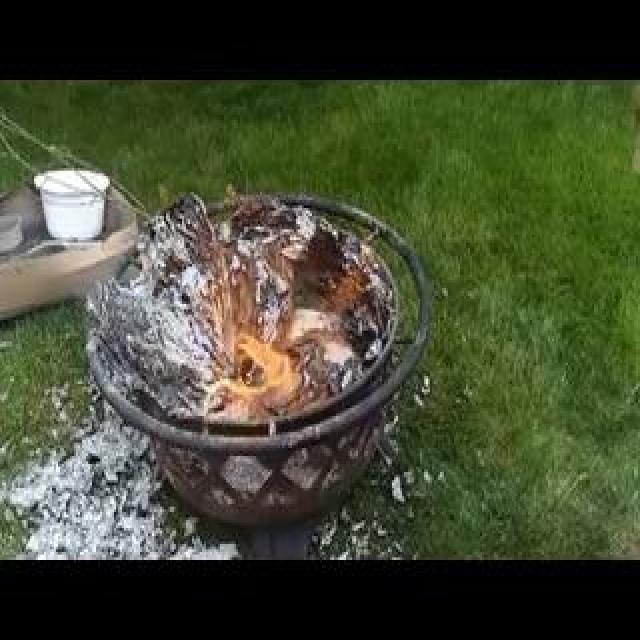Fire: (144, 158, 261, 350)
